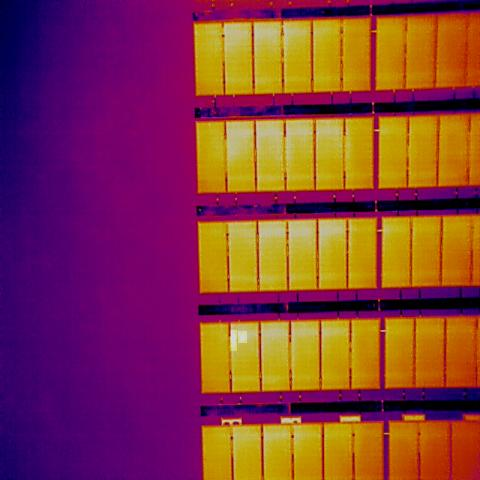fault: (230, 330, 237, 351), (238, 331, 247, 343)
